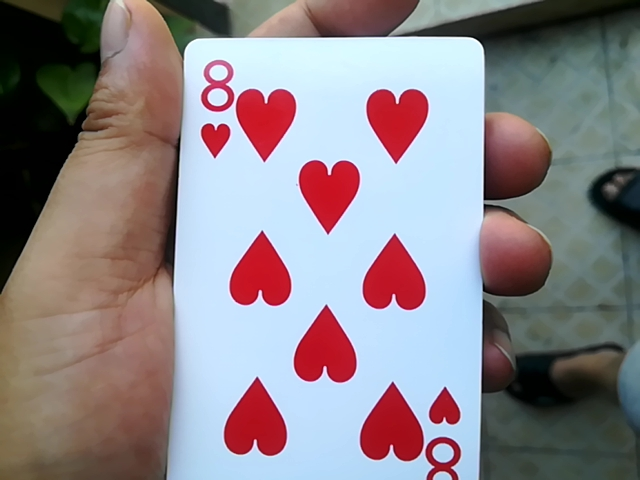hx 8: (171, 40, 497, 480)
